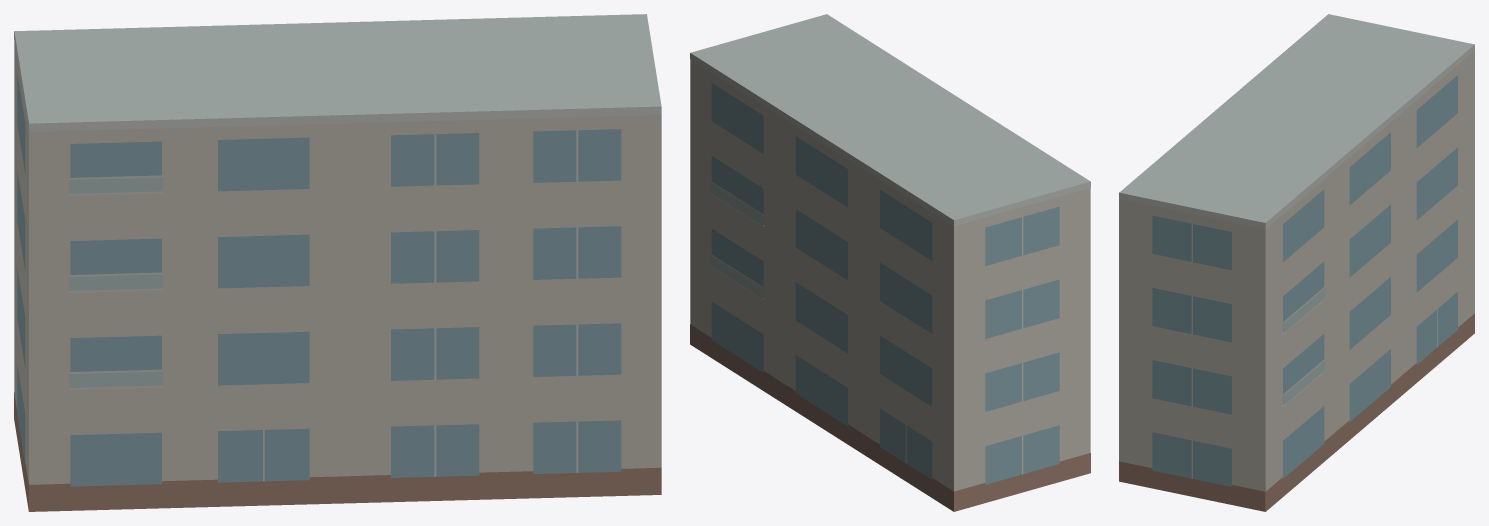
The model's file is survey-upis-32838743.glb.
3 renders of one model, left to right at view 1: azimuth 30°, elevation 25°; view 2: azimuth 150°, elevation 25°; view 3: azimuth 270°, elevation 25°, orthographic. The views are drawn at different scales.
Parts seen in each view (by area): view 1: survey-upis-32838743.tmp; view 2: survey-upis-32838743.tmp; view 3: survey-upis-32838743.tmp.
Part boxes in pixels (x1=…): survey-upis-32838743.tmp: x1=14, y1=14, x2=661, y2=511; survey-upis-32838743.tmp: x1=690, y1=14, x2=1090, y2=511; survey-upis-32838743.tmp: x1=1119, y1=14, x2=1474, y2=511.
Size of the model in its own units: 17.54 by 11.3 by 12.62.
